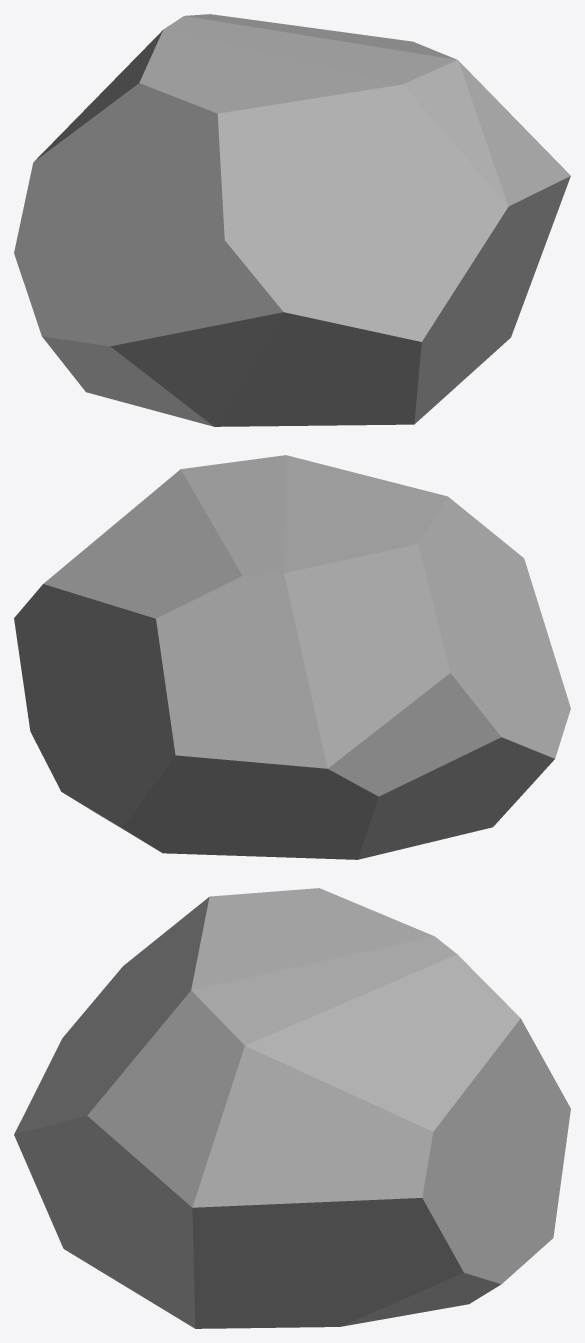
The model's file is Rock_Round_m_01.fbx.
3 renders of one model, top to bottom at view 1: azimuth 30°, elevation 25°; view 2: azimuth 150°, elevation 25°; view 3: azimuth 270°, elevation 25°, orthographic. The views are drawn at different scales.
Parts seen in each view (by area): view 1: Rock_Round_m_01; view 2: Rock_Round_m_01; view 3: Rock_Round_m_01.
Boxes of the visible parts, box(x1,y1,x2,y2) form: Rock_Round_m_01: box(14, 14, 570, 426); Rock_Round_m_01: box(14, 455, 570, 859); Rock_Round_m_01: box(14, 888, 570, 1328).
Bounding box in the file's own units: 117 × 66.17 × 115.
